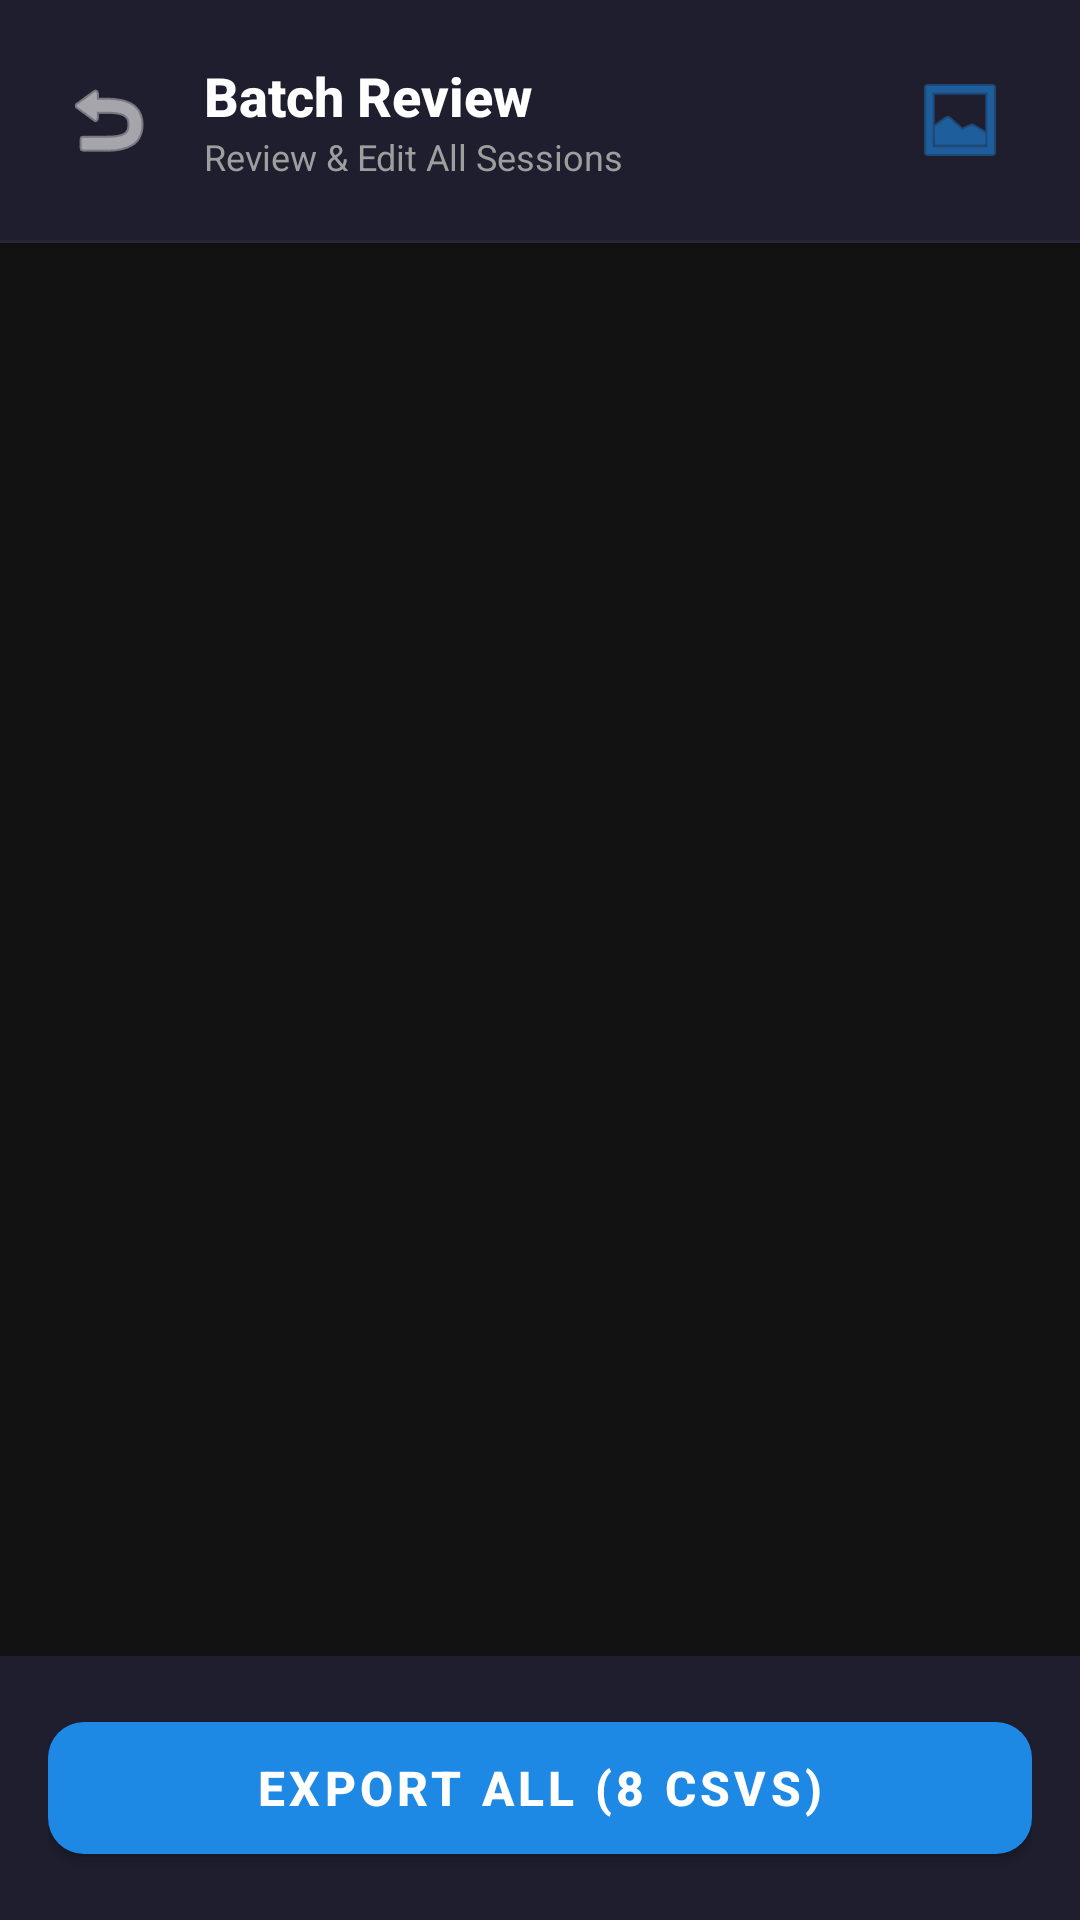

Icon click points for this 1080px x 1920px phone screenshot, format point (x, y):
Back: point (109, 120)
View Source Images: point (960, 120)
